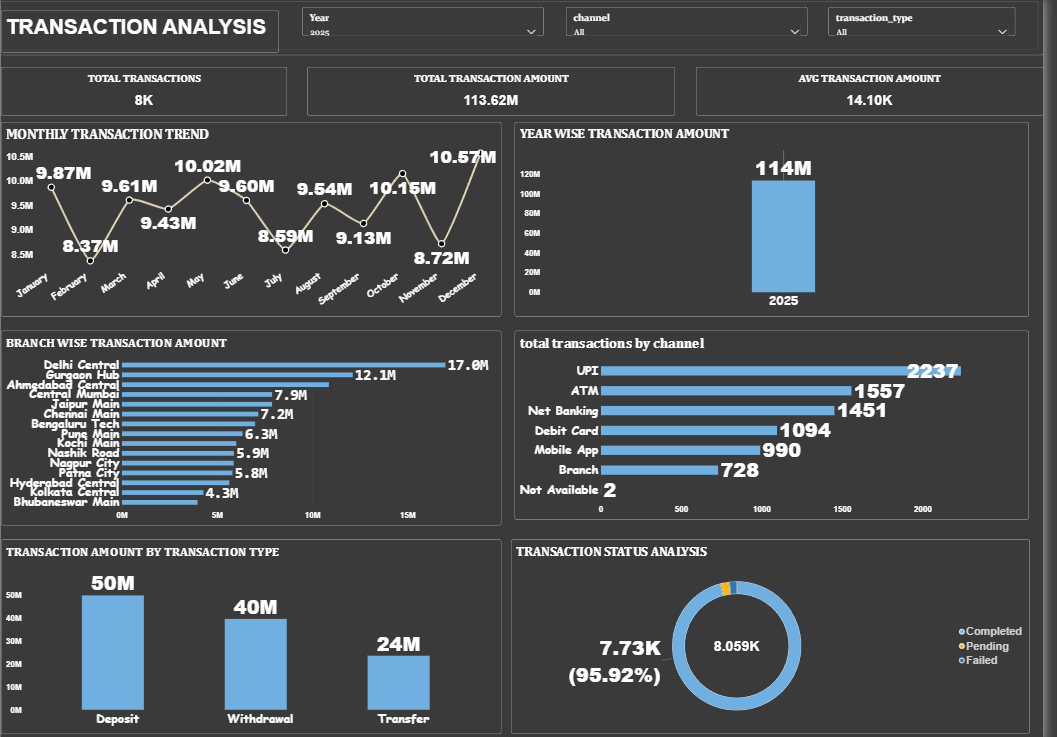

The dashboard page shown, as its layout file describes it:
{"tool":"powerbi","page":{"name":"TRANSACTION ANALYSIS","canvas":[3600,2577],"ordinal":2},"visuals":[{"type":"shape","box":[-48,0,3648,200.8],"z":0},{"type":"slicer","fields":{"Values":["public transactions.transaction_date.Variation.Date Hierarchy.Year"]},"box":[1040,33.5,834,100.4],"z":0},{"type":"slicer","fields":{"Values":["public transactions.transaction_type"]},"box":[2859.6,33.5,644.4,100.4],"z":1000},{"type":"textbox","box":[0,48,960,144],"z":1000},{"type":"slicer","fields":{"Values":["public transactions.channel"]},"box":[1949.8,33.5,834,100.4],"z":2000},{"type":"group","id":"g1","title":"Group 1","box":[0,240,3600,144],"z":2000},{"type":"cardVisual","title":"TOTAL TRANSACTIONS","fields":{"Data":["public accounts.total transactions"]},"box":[0,240,988.2,167.3],"z":4000,"group":"g1"},{"type":"lineChart","title":"MONTHLY TRANSACTION TREND","fields":{"Category":["public transactions.transaction_date.Variation.Date Hierarchy.Month"],"Y":["public accounts.total transaction amount"]},"box":[0,432,1728,672],"z":4000},{"type":"cardVisual","title":"TOTAL TRANSACTION AMOUNT","fields":{"Data":["public accounts.total transaction amount"]},"box":[1058.8,240,1270.6,167.3],"z":8000,"group":"g1"},{"type":"clusteredColumnChart","title":"TRANSACTION AMOUNT BY TRANSACTION TYPE","fields":{"Y":["public accounts.total transaction amount"],"Category":["public transactions.transaction_type"]},"box":[0,1872,1728,672],"z":8000},{"type":"clusteredBarChart","fields":{"Y":["public accounts.total transactions"],"Category":["public transactions.channel"]},"box":[1776,1152,1776,652.5],"z":10000},{"type":"clusteredBarChart","title":"BRANCH WISE TRANSACTION AMOUNT","fields":{"Category":["public branches.branch_name"],"Y":["public accounts.total transaction amount"]},"box":[0,1152,1728,672],"z":11000},{"type":"clusteredColumnChart","title":"YEAR WISE TRANSACTION AMOUNT","fields":{"Category":["public transactions.transaction_date.Variation.Date Hierarchy.Year"],"Y":["public accounts.total transaction amount"]},"box":[1776,432,1776,672],"z":12000},{"type":"cardVisual","title":"AVG TRANSACTION AMOUNT","fields":{"Data":["public accounts.average transaction amount"]},"box":[2400,240,1200,167.3],"z":13000,"group":"g1"},{"type":"donutChart","title":"TRANSACTION STATUS ANALYSIS","fields":{"Category":["public transactions.transaction_status"],"Y":["CountNonNull(public transactions.transaction_id)"]},"box":[1760,1874,1792,669.3],"z":13000}]}

Visuals, with their boxes in screenshot pixels (x1, y1, x2, y2), scaled from the page's 3600x2577 canvas onto the 1057x737 screenshot:
shape: <region>0, 0, 1056, 57</region>
slicer - public transactions.transaction_date.Variation.Date Hierarchy.Year: <region>305, 10, 550, 38</region>
slicer - public transactions.transaction_type: <region>840, 10, 1029, 38</region>
textbox: <region>0, 14, 282, 55</region>
slicer - public transactions.channel: <region>572, 10, 817, 38</region>
"Group 1" group: <region>0, 69, 1056, 110</region>
"TOTAL TRANSACTIONS" cardVisual: <region>0, 69, 290, 116</region>
"MONTHLY TRANSACTION TREND" lineChart: <region>0, 124, 507, 316</region>
"TOTAL TRANSACTION AMOUNT" cardVisual: <region>311, 69, 684, 116</region>
"TRANSACTION AMOUNT BY TRANSACTION TYPE" clusteredColumnChart: <region>0, 535, 507, 728</region>
clusteredBarChart - public accounts.total transactions x public transactions.channel: <region>521, 329, 1043, 516</region>
"BRANCH WISE TRANSACTION AMOUNT" clusteredBarChart: <region>0, 329, 507, 522</region>
"YEAR WISE TRANSACTION AMOUNT" clusteredColumnChart: <region>521, 124, 1043, 316</region>
"AVG TRANSACTION AMOUNT" cardVisual: <region>705, 69, 1056, 116</region>
"TRANSACTION STATUS ANALYSIS" donutChart: <region>517, 536, 1043, 727</region>
